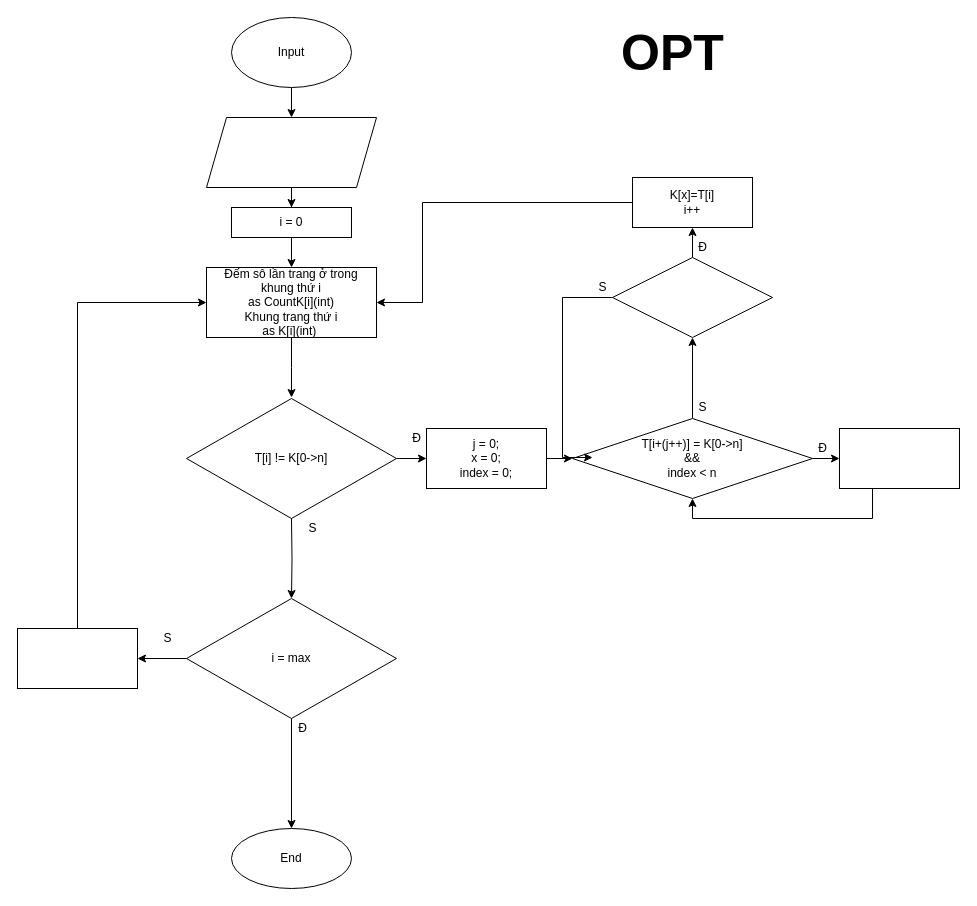
Some shapes in this 977 by 906 pixel diagram are drawn without their labels. Here are the shapes that lost their labels. From the top down, the box of each, then its label:
(206, 116, 376, 188): Nhập các trang as T[](int) số khung trang as n(int)
(612, 256, 772, 338): index = n
(838, 428, 960, 488): index++; x = Ví trị của K[0->n] lúc T[i+(j++)] = K[0->n]
(16, 628, 138, 688): i++
